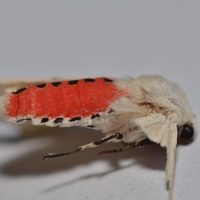insect: (0, 76, 192, 199)
